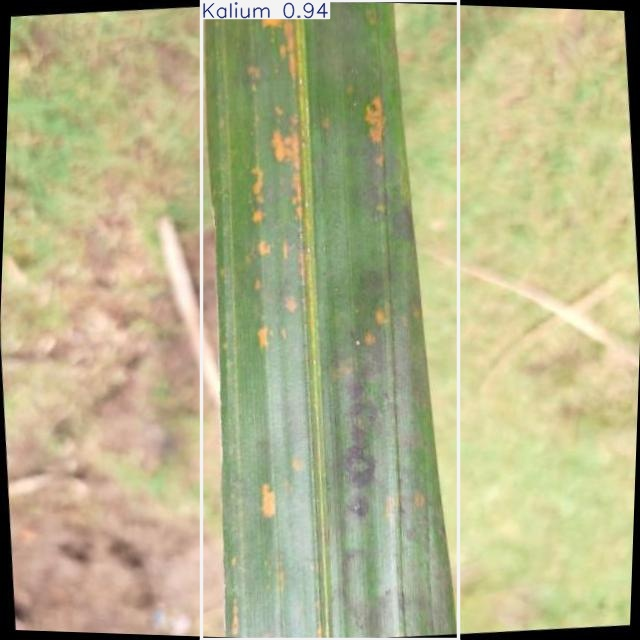Kalium: (201, 0, 458, 640)
